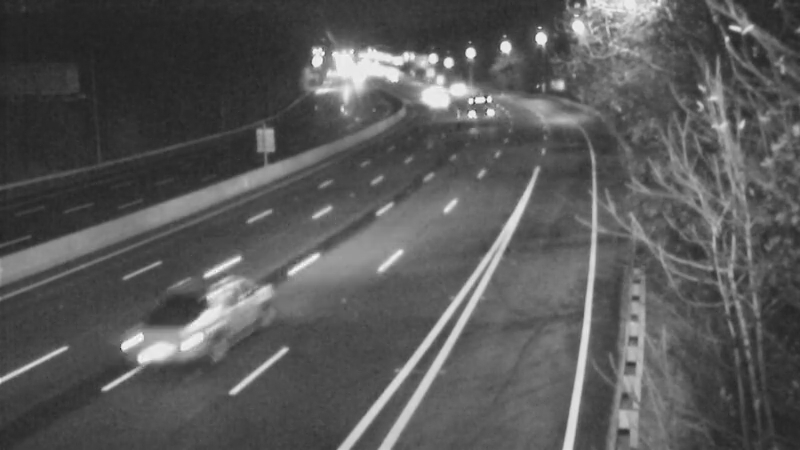vehicle: (114, 278, 224, 388), (435, 62, 485, 112), (414, 74, 464, 124), (453, 87, 503, 137)
